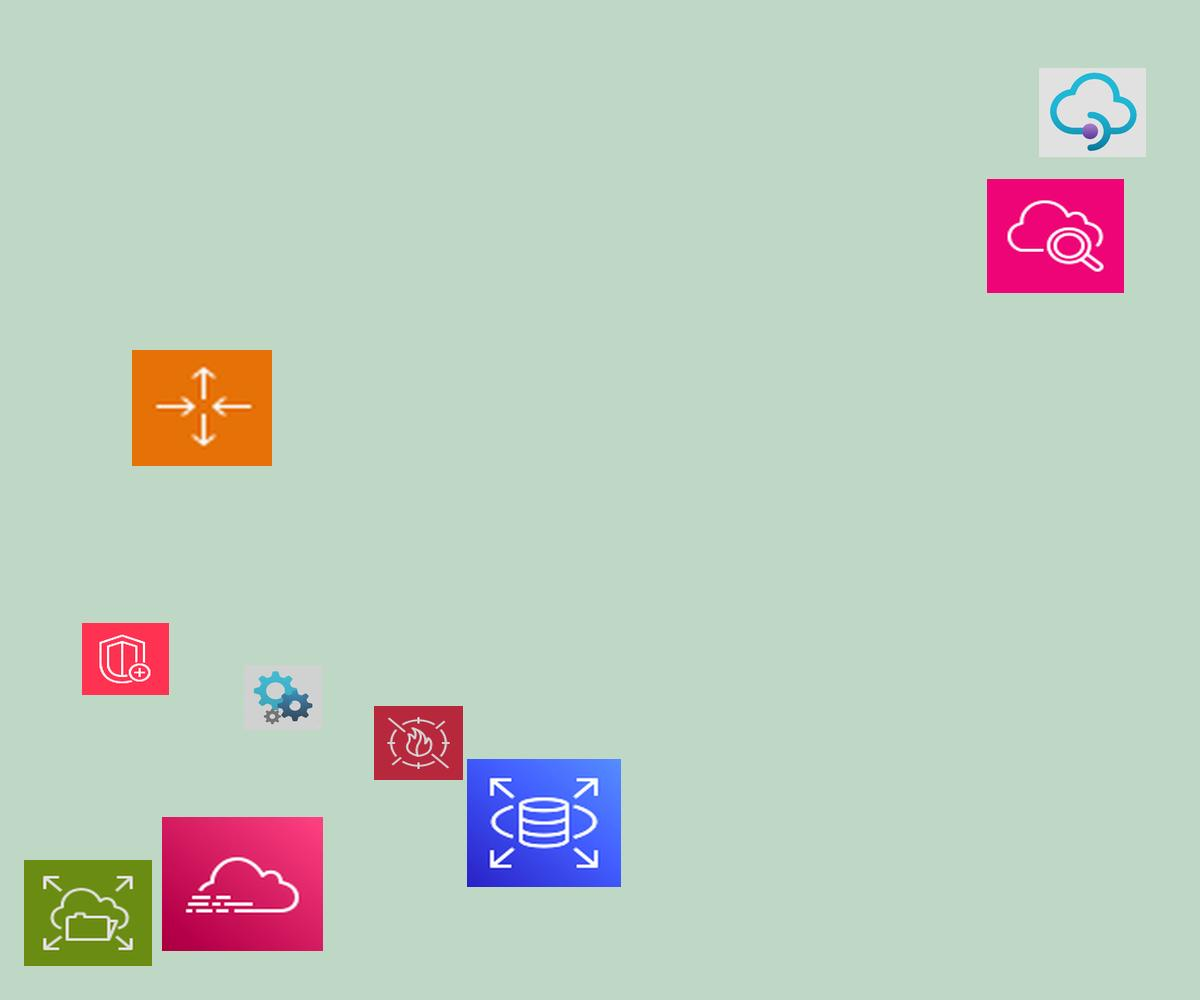AWS-CloudTrail: (162, 817, 323, 951)
AWS-CloudWatch: (987, 179, 1124, 293)
AWS-EFS: (24, 860, 152, 966)
AWS-RDS: (467, 759, 621, 887)
AWS-Scaling-group: (132, 350, 272, 466)
AWS-Shield: (82, 623, 169, 695)
AWS-WAF: (374, 706, 463, 780)
Azure_api: (244, 665, 322, 730)
Azure_api_gateway: (1039, 68, 1146, 157)
